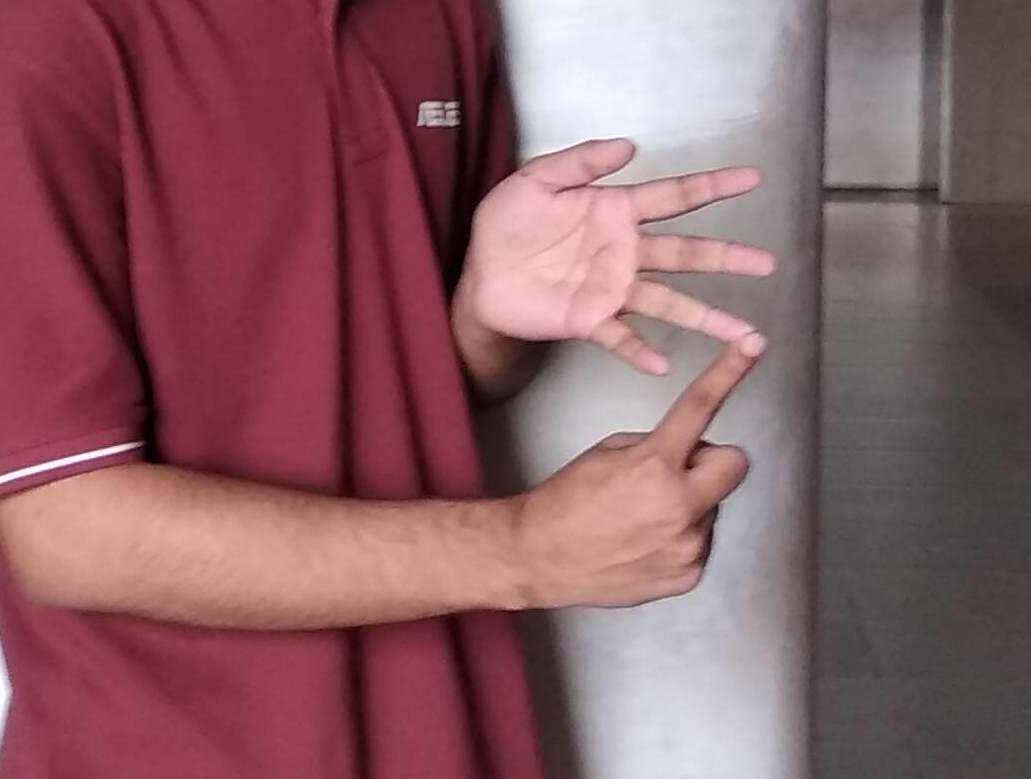e: (554, 145, 760, 508)
